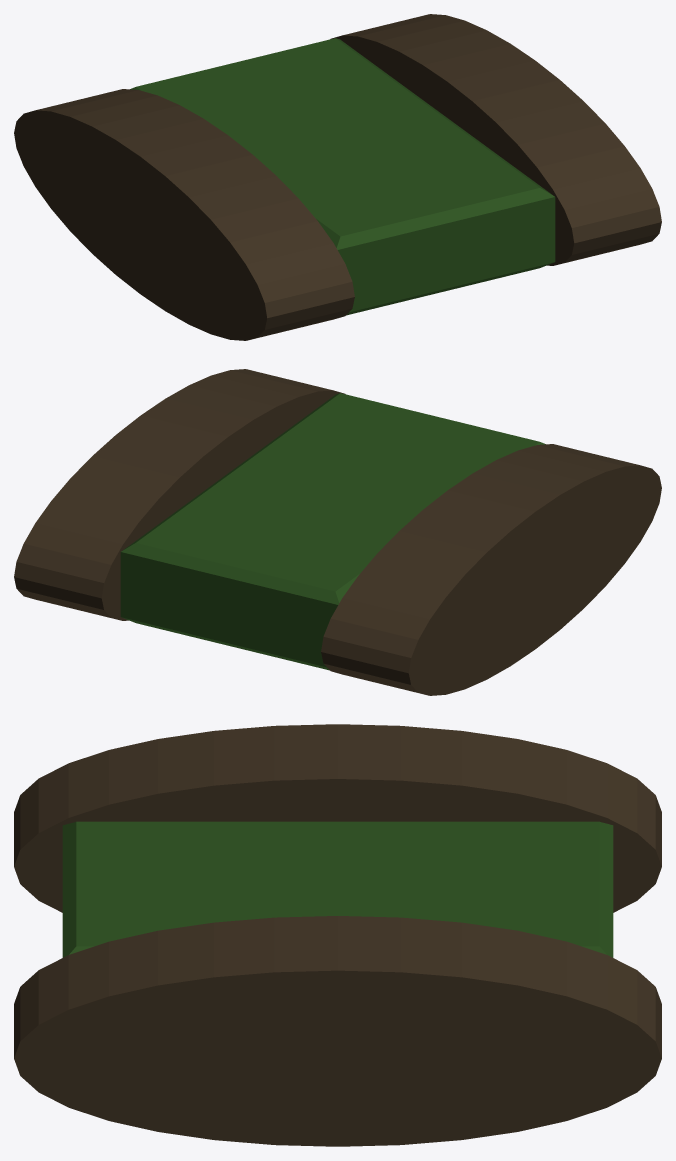
File: test_tank_hull.glb
The picture shows the model from 3 angles, top to bottom: view 1: azimuth 30°, elevation 25°; view 2: azimuth 150°, elevation 25°; view 3: azimuth 270°, elevation 25°; orthographic projection. The views are drawn at different scales.
Parts seen in each view (by area): view 1: Cube, Cylinder.001, Cylinder; view 2: Cube, Cylinder.001, Cylinder; view 3: Cylinder, Cube, Cylinder.001.
Part boxes in pixels (left/top/right/bottom): Cube: left=130, top=38, right=555, bottom=315; Cylinder.001: left=14, top=89, right=354, bottom=340; Cylinder: left=330, top=14, right=661, bottom=265; Cube: left=120, top=393, right=545, bottom=670; Cylinder.001: left=321, top=444, right=661, bottom=695; Cylinder: left=14, top=369, right=345, bottom=620; Cylinder: left=14, top=916, right=661, bottom=1146; Cube: left=62, top=821, right=613, bottom=957; Cylinder.001: left=14, top=724, right=661, bottom=912.
Size of the model in its own units: 18 by 6 by 20.
